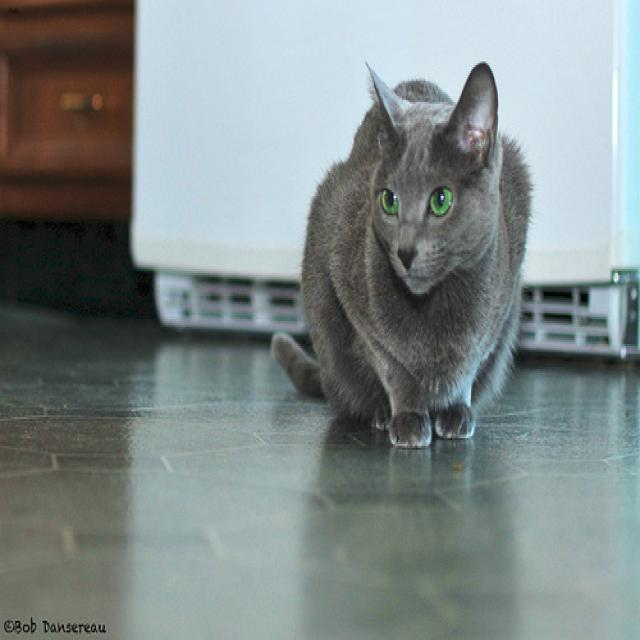Russian_Blue: (361, 52, 507, 299)
